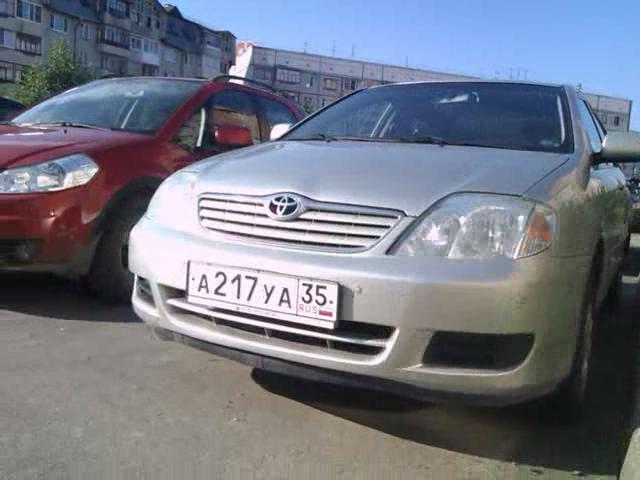car license plate: (187, 256, 341, 337)
